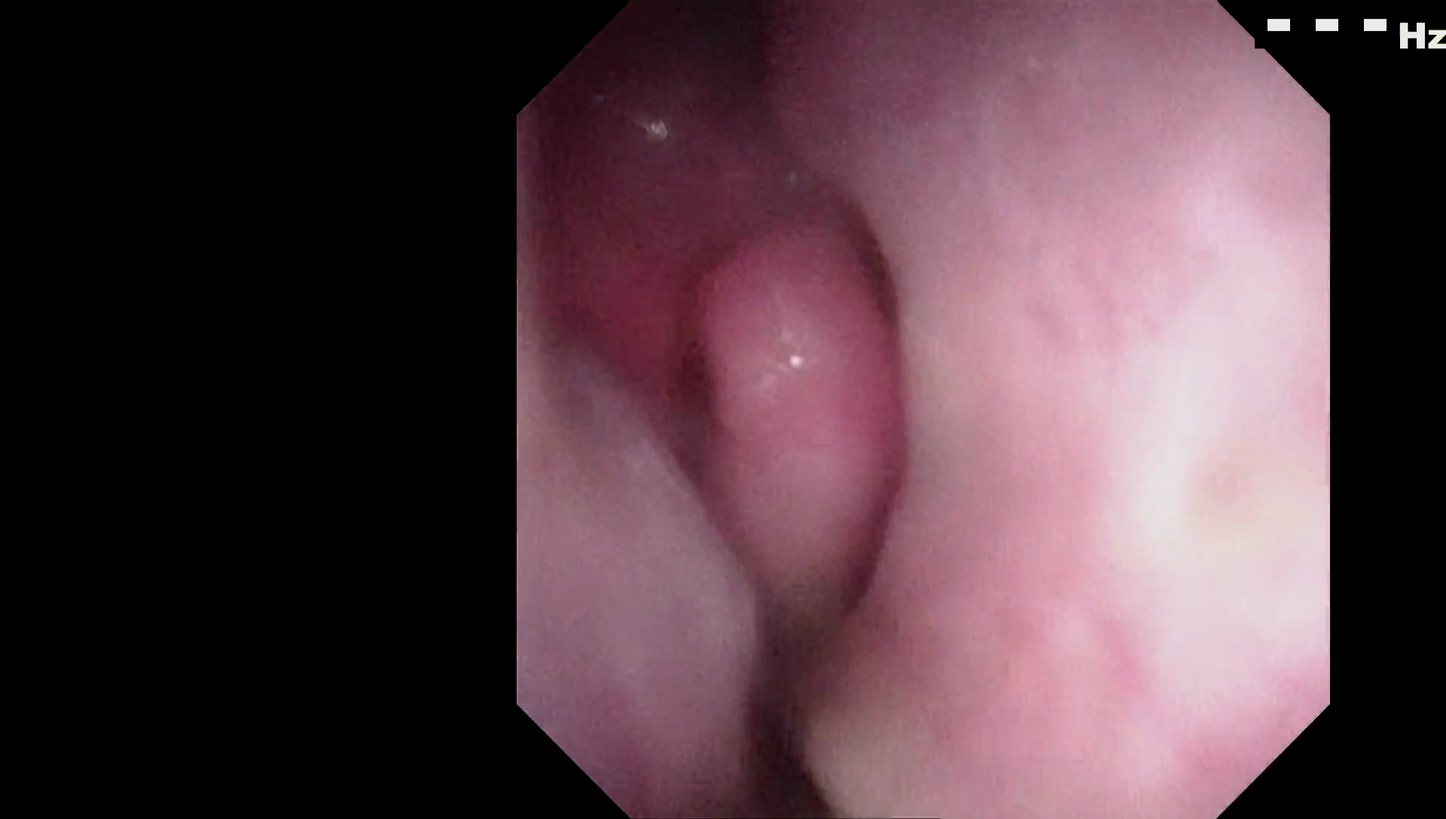close_wall: (909, 87, 1323, 687)
next: (654, 632, 840, 819), (609, 0, 767, 107)
